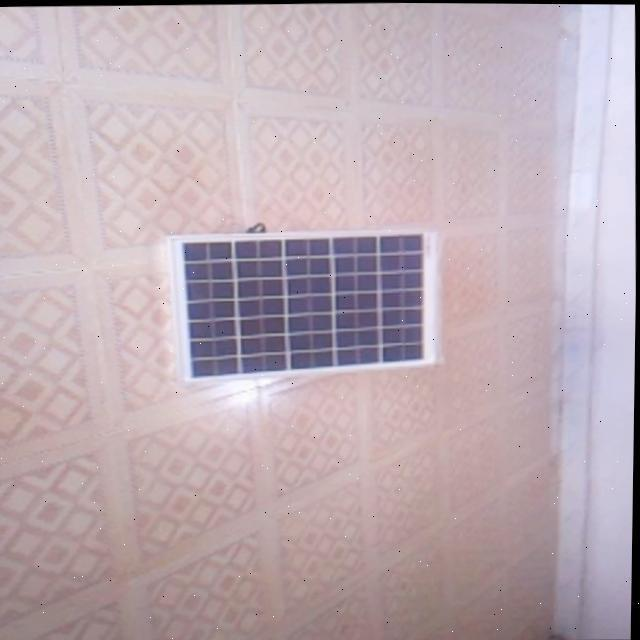Normal Solar Panel: (166, 224, 441, 381)
